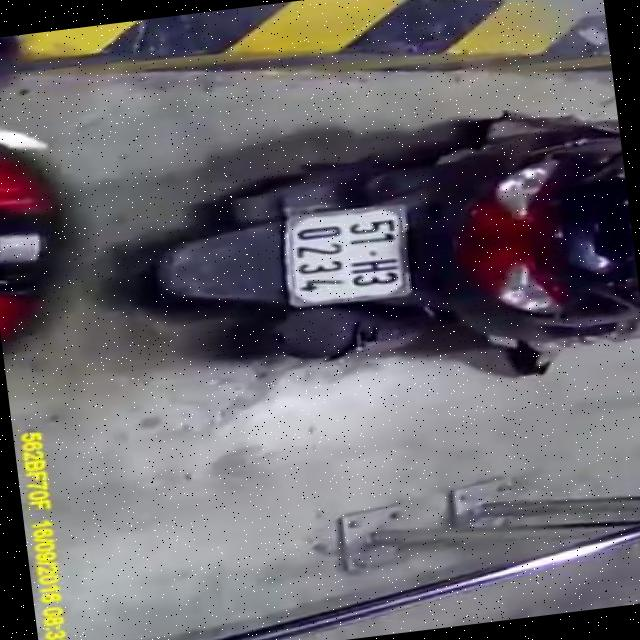license_plate: (275, 199, 412, 310)
